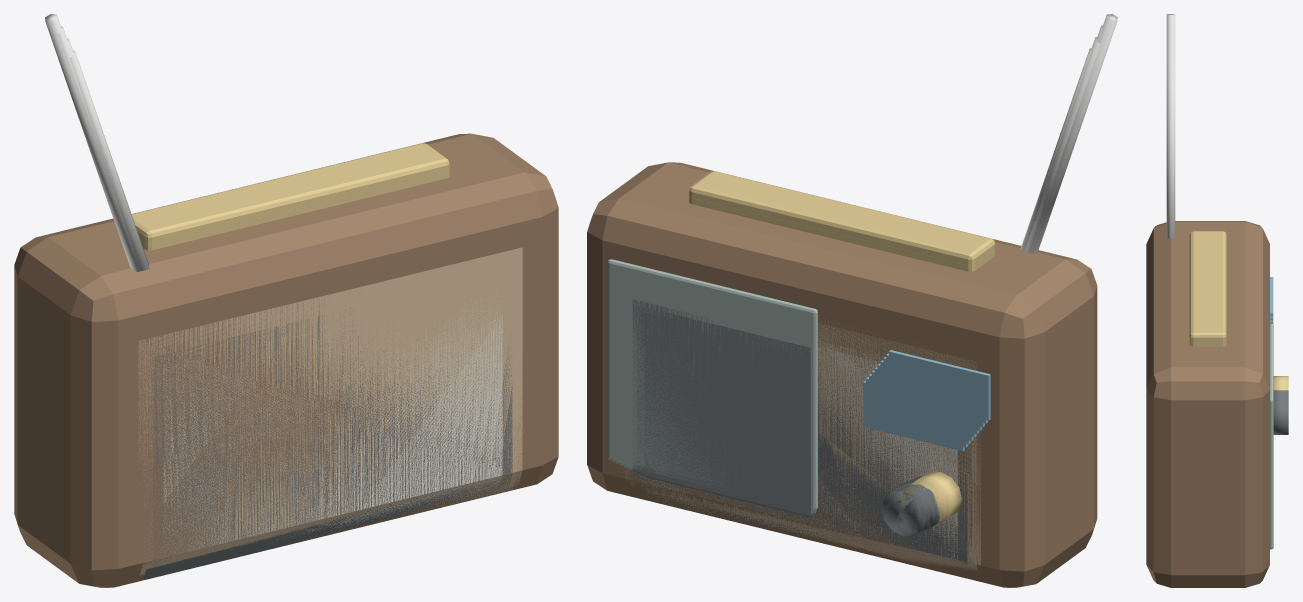
The model's file is Gear12.fbx.
The picture shows the model from 3 angles, left to right: view 1: azimuth 30°, elevation 25°; view 2: azimuth 150°, elevation 25°; view 3: azimuth 270°, elevation 25°; orthographic projection. The views are drawn at different scales.
Visible parts, largest first — view 1: Gear12_V10_Walnut, Gear12_V6_Oak, Gear12_V8_Walnut, Gear12_V5_Oak, Gear12_V4_Charcoal, Gear12_V2_Ivory, Gear12_V3_Charcoal, Gear12_V10_Brass, Gear12_V9_Walnut, Gear12_V1_Ivory, Gear12_V4_Chrome, Gear12_V9_Brass (+3 smaller); view 2: Gear12_V10_Walnut, Gear12_V3_Graphite, Gear12_V3_Charcoal, Gear12_V10_Fabric, Gear12_V5_Oak, Gear12_V1_Graphite, Gear12_V10_Brass, Gear12_V8_Walnut, Gear12_V1_Ivory, Gear12_V6_Fabric, Gear12_V6_Oak, Gear12_V1_ScreenUI (+19 smaller); view 3: Gear12_V10_Walnut, Gear12_V10_Brass, Gear12_V1_Chrome, Gear12_V10_Fabric, Gear12_V1_Charcoal, Gear12_V9_Brass.
Boxes of the visible parts, x1,y1,x2,y2 form: Gear12_V10_Walnut: [14, 133, 558, 587]; Gear12_V6_Oak: [138, 247, 522, 510]; Gear12_V8_Walnut: [128, 268, 532, 541]; Gear12_V5_Oak: [140, 255, 517, 575]; Gear12_V4_Charcoal: [143, 322, 512, 580]; Gear12_V2_Ivory: [241, 288, 502, 541]; Gear12_V3_Charcoal: [153, 308, 507, 560]; Gear12_V10_Brass: [131, 143, 449, 243]; Gear12_V9_Walnut: [118, 225, 537, 586]; Gear12_V1_Ivory: [163, 338, 495, 547]; Gear12_V4_Chrome: [45, 14, 140, 271]; Gear12_V9_Brass: [140, 171, 449, 250]; Gear12_V10_Walnut: [587, 162, 1097, 587]; Gear12_V3_Graphite: [636, 305, 814, 515]; Gear12_V3_Charcoal: [635, 336, 967, 565]; Gear12_V10_Fabric: [607, 259, 817, 509]; Gear12_V5_Oak: [625, 323, 978, 572]; Gear12_V1_Graphite: [644, 318, 813, 517]; Gear12_V10_Brass: [689, 171, 995, 525]; Gear12_V8_Walnut: [611, 261, 994, 585]; Gear12_V1_Ivory: [645, 347, 957, 558]; Gear12_V6_Fabric: [624, 287, 815, 513]; Gear12_V6_Oak: [622, 318, 980, 565]; Gear12_V1_ScreenUI: [863, 380, 964, 451]; Gear12_V10_Walnut: [1146, 221, 1269, 587]; Gear12_V10_Brass: [1189, 231, 1288, 385]; Gear12_V1_Chrome: [1166, 49, 1175, 238]; Gear12_V10_Fabric: [1270, 323, 1273, 549]; Gear12_V1_Charcoal: [1273, 405, 1288, 434]; Gear12_V9_Brass: [1189, 341, 1288, 387].
Bounding box in the file's own units: 33.5 × 36.68 × 11.5.
